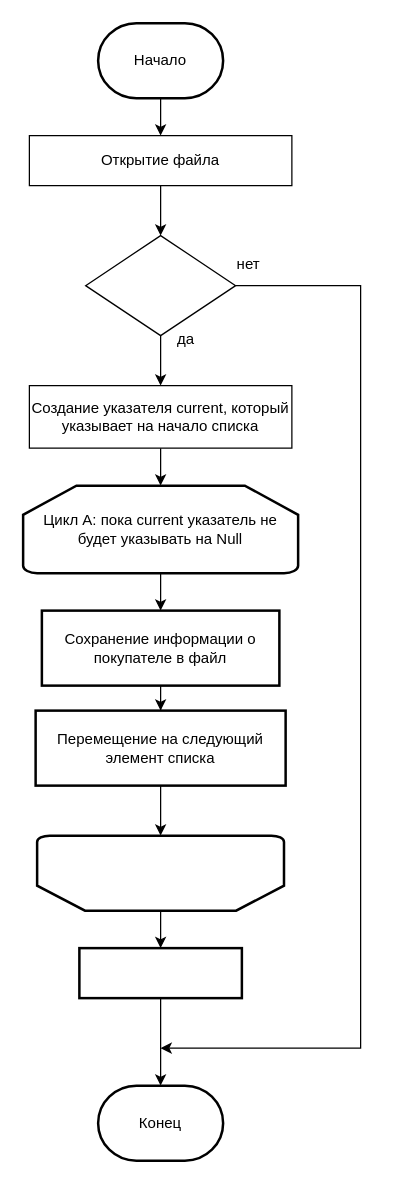
This 393x1183 diagram has some shape labels left out. The box of each missing label's shape, as (x1, y1, x2, y2) in pixels:
Закрытие файла: (78, 946, 242, 999)
Открыт ли файл: (84, 234, 236, 336)
Цикл А: (35, 834, 285, 911)
